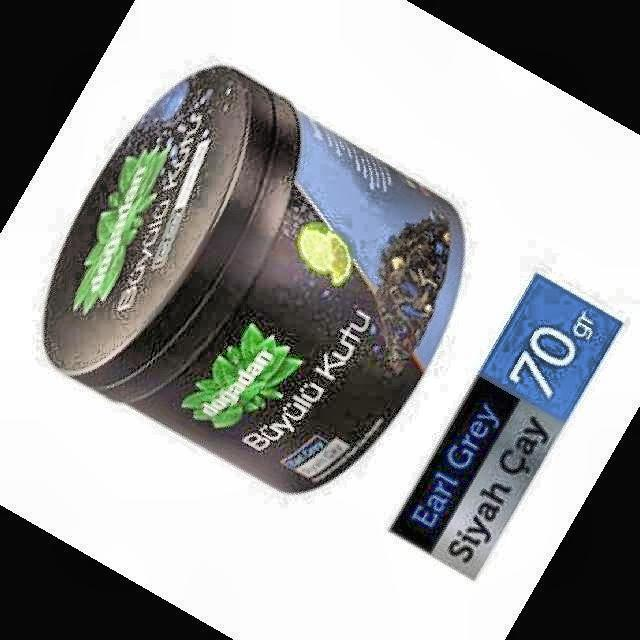plastic: (45, 66, 462, 492)
